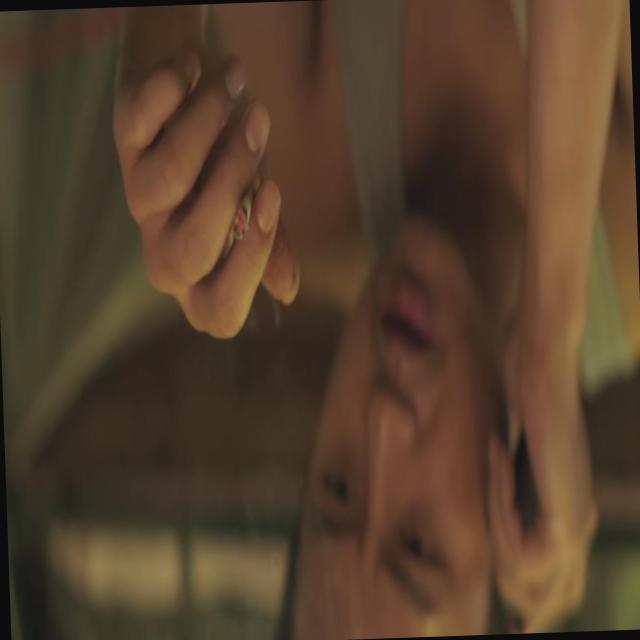smoke: (228, 164, 266, 246)
